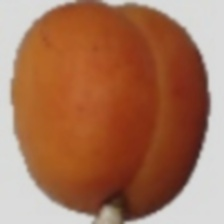apricot: (26, 52, 183, 201)
